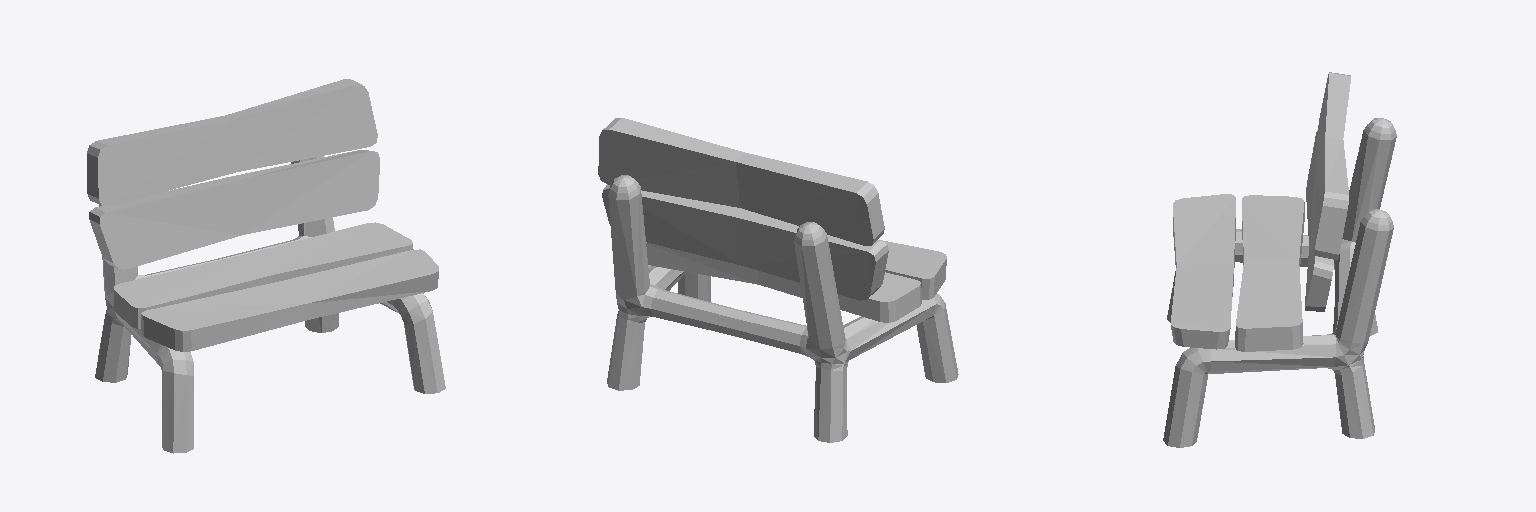
File: bench.obj
The picture shows the model from 3 angles: view 1: azimuth 30°, elevation 25°; view 2: azimuth 150°, elevation 25°; view 3: azimuth 270°, elevation 25°; orthographic projection.
Visible parts, largest first — view 1: park0908:CubeFBXASC046007 group, park0908:CubeFBXASC046007 group park0908:CylinderFBXASC046010; view 2: park0908:CubeFBXASC046007 group, park0908:CubeFBXASC046007 group park0908:CylinderFBXASC046010; view 3: park0908:CubeFBXASC046007 group, park0908:CubeFBXASC046007 group park0908:CylinderFBXASC046010.
Boxes of the visible parts, x1,y1,x2,y2 form: park0908:CubeFBXASC046007 group: [87, 79, 438, 351]; park0908:CubeFBXASC046007 group park0908:CylinderFBXASC046010: [95, 156, 445, 453]; park0908:CubeFBXASC046007 group: [598, 118, 946, 322]; park0908:CubeFBXASC046007 group park0908:CylinderFBXASC046010: [607, 175, 958, 442]; park0908:CubeFBXASC046007 group: [1171, 72, 1350, 351]; park0908:CubeFBXASC046007 group park0908:CylinderFBXASC046010: [1163, 118, 1396, 447].
Size of the model in its own units: 13.93 by 11.79 by 10.03.